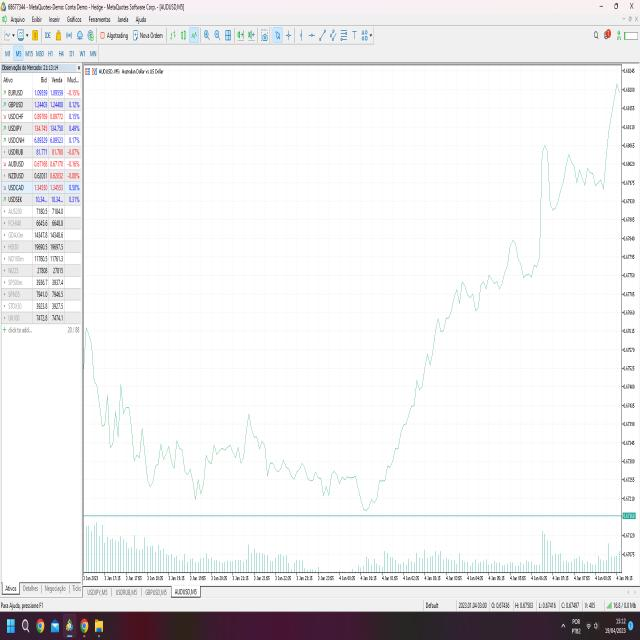fundo_duplo: (180, 432, 211, 508)
